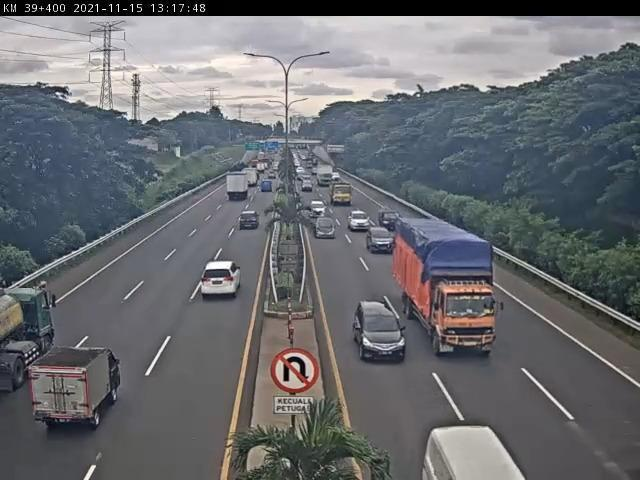car: (33, 350, 121, 429), (354, 297, 408, 367), (199, 260, 244, 303), (366, 226, 396, 258), (314, 215, 338, 241), (240, 209, 263, 234), (380, 208, 403, 231), (351, 210, 372, 233)
truck: (396, 220, 500, 359), (1, 289, 59, 397)
